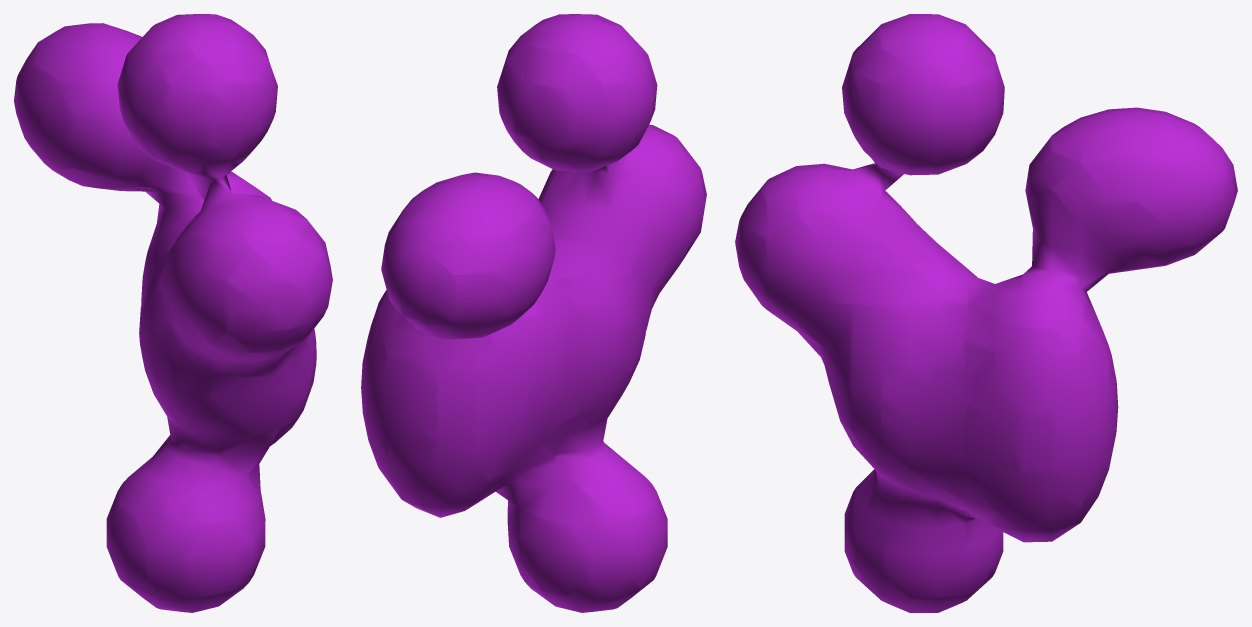
The model's file is metaballs_test3.fbx.
The picture shows the model from 3 angles, left to right: view 1: azimuth 30°, elevation 25°; view 2: azimuth 150°, elevation 25°; view 3: azimuth 270°, elevation 25°; orthographic projection.
Visible parts, largest first — view 1: Mball.006; view 2: Mball.006; view 3: Mball.006.
Part boxes in pixels (bbox=[...]): Mball.006: bbox=[14, 14, 332, 612]; Mball.006: bbox=[361, 14, 706, 612]; Mball.006: bbox=[735, 14, 1237, 612].
Bounding box in the file's own units: 376 × 914 × 707.
